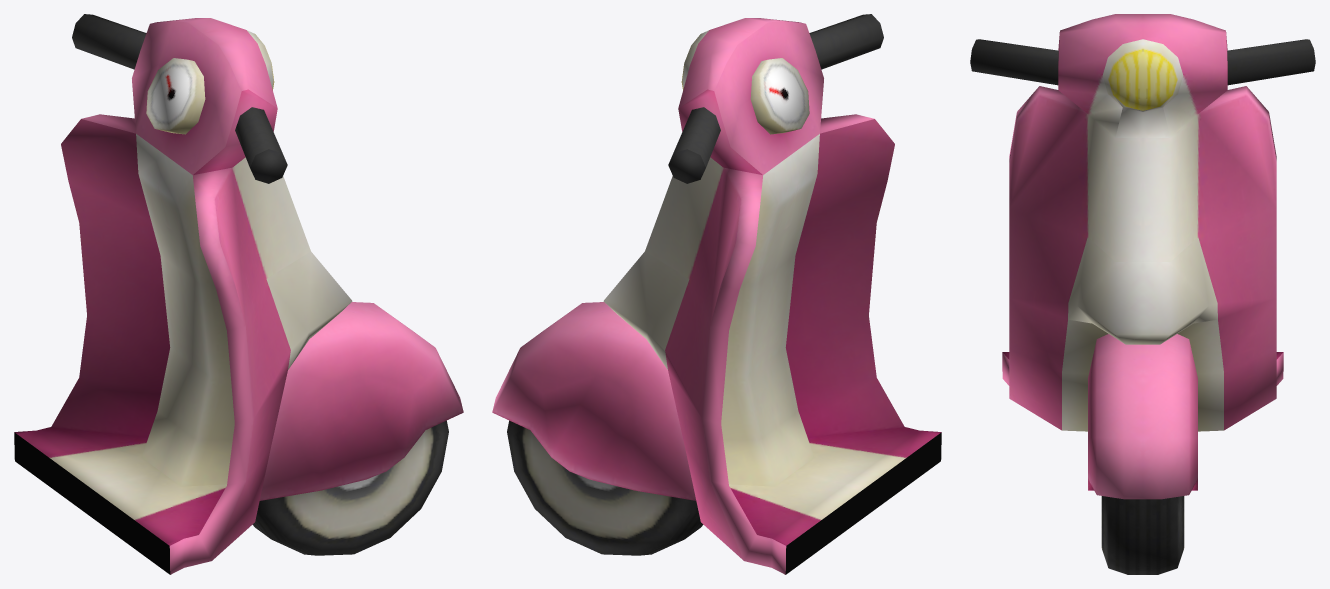
Rendered from scooter_left.glb.
The picture shows the model from 3 angles, left to right: view 1: azimuth 30°, elevation 25°; view 2: azimuth 150°, elevation 25°; view 3: azimuth 270°, elevation 25°; orthographic projection. The views are drawn at different scales.
Visible parts, largest first — view 1: scooter_left; view 2: scooter_left; view 3: scooter_left.
Part boxes in pixels (bbox=[...]): scooter_left: bbox=[14, 14, 463, 574]; scooter_left: bbox=[492, 14, 941, 574]; scooter_left: bbox=[970, 14, 1315, 574].
Bounding box in the file's own units: 0.7009 × 1.02 × 0.6489.
Materials: 1 (1 with a texture image).
